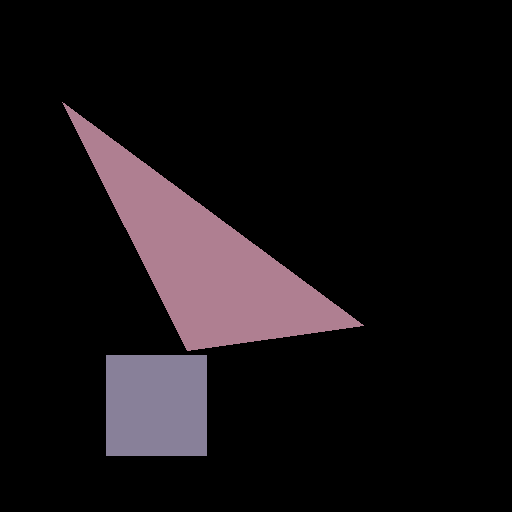square: (106, 355, 206, 455)
triangle: (62, 102, 363, 350)
